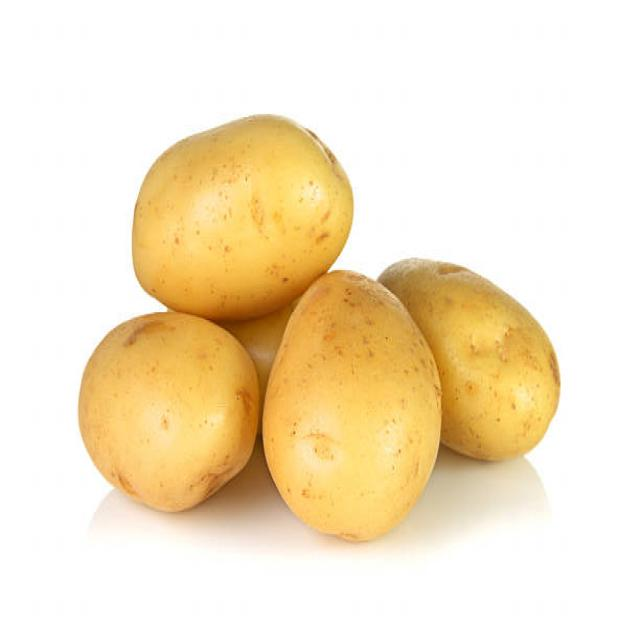Potato: (260, 271, 443, 547), (75, 311, 259, 517), (130, 111, 355, 274), (434, 255, 563, 472)
